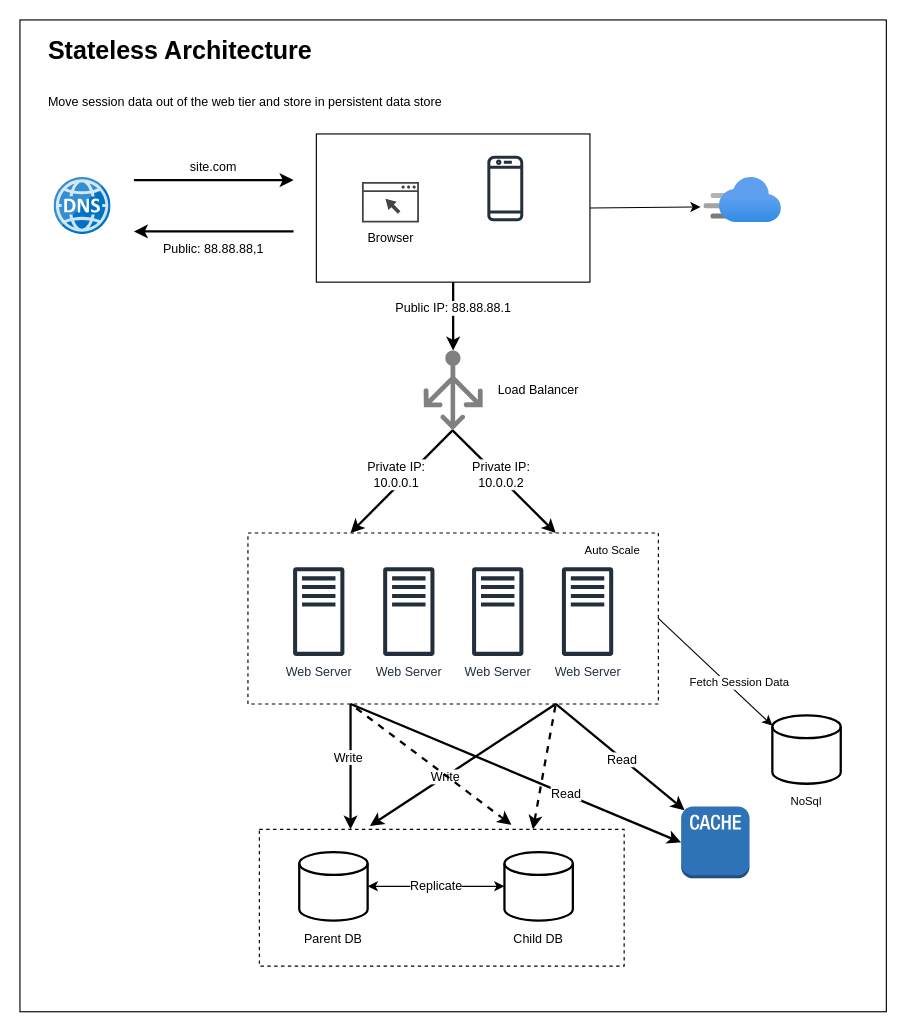
The diagram is 906 pixels wide and 1032 high, and some of its shapes have lost their labels. The shapes that lost their labels are listed below. From the top down, each one's centre as x and y in pixels, then its label:
At point 505,188: "Mobile".
At point 742,199: "CDN".
